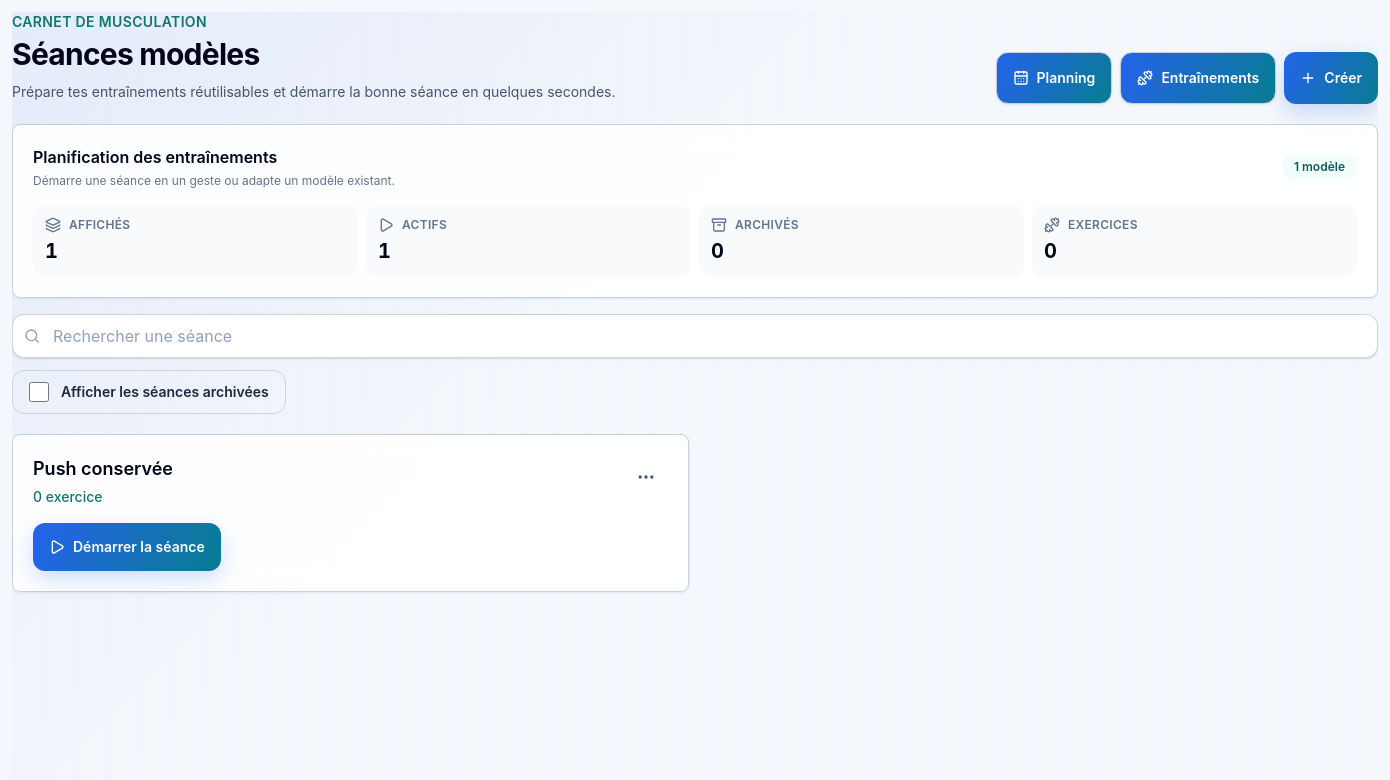
it: WorkoutTemplatesPage › garde une erreur locale unique lorsque le démarrage échoue
Click the button "Démarrer la séance".
click(127, 547)  # box left=33, top=523, right=221, bottom=571
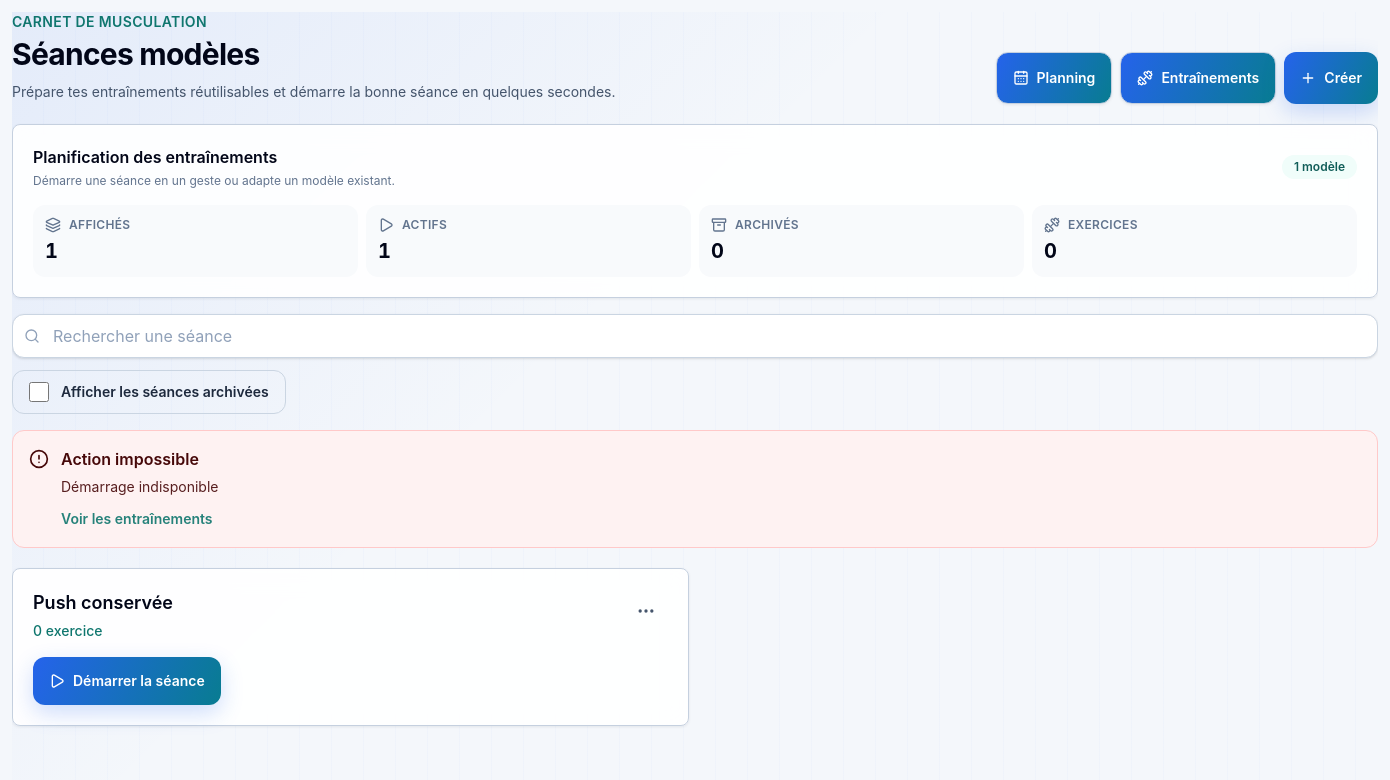
Expected: the text "Démarrage indisponible" is shown, left=61, top=475, right=218, bottom=499
Expected: the number of messages is 1, left=12, top=430, right=1378, bottom=548
